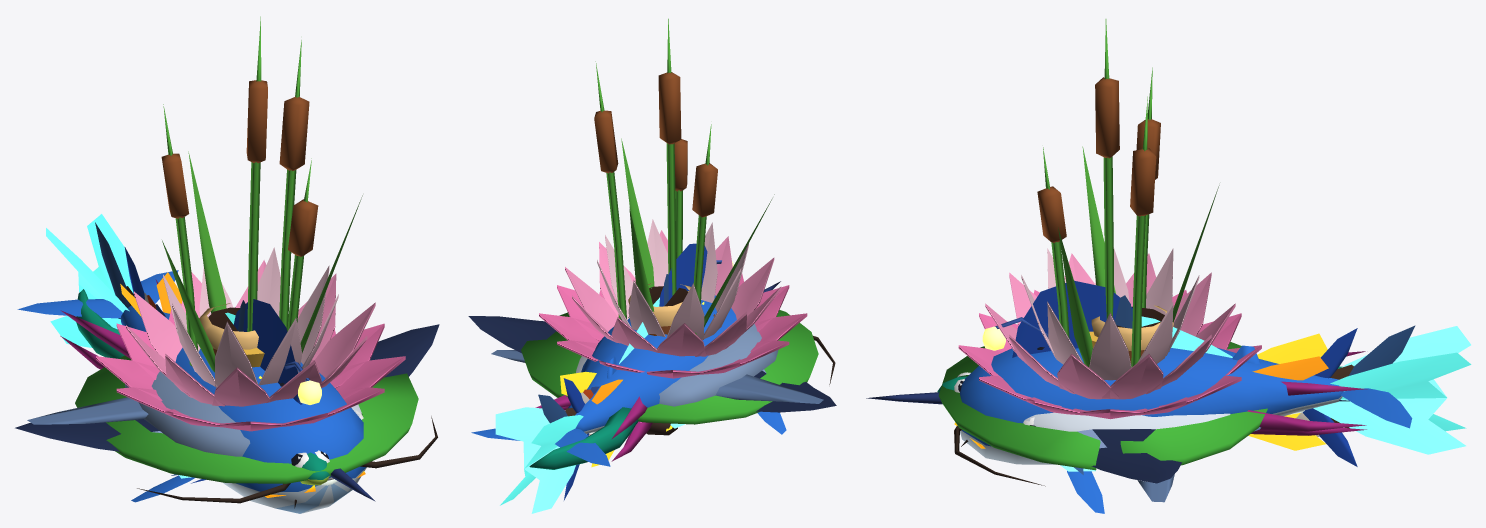
File: fish.glb
3 views of the same model, side by side, from view 1: azimuth 30°, elevation 25°; view 2: azimuth 150°, elevation 25°; view 3: azimuth 270°, elevation 25° (orthographic). The views are drawn at different scales.
Visible parts, largest first — view 1: lily_flower, reeds, lily_pad, fish_whale_body, fish_sunfish_body, fish_manta_body, fish_guardian_tail, fish_swordfish_body, fish_whale_tail, boot_body, fish_catfish_body, fish_eel_tail (+5 smaller); view 2: lily_flower, reeds, lily_pad, fish_whale_body, fish_sunfish_body, fish_guardian_tail, fish_manta_body, fish_eel_tail, boot_body, fish_whale_tail, fish_swordfish_body, fish_kraken_tail (+3 smaller); view 3: lily_flower, fish_whale_body, reeds, lily_pad, fish_guardian_tail, fish_swordfish_body, fish_golden_tail, fish_sunfish_body, fish_manta_body, fish_kraken_tail, fish_swordfish_tail, fish_whale_tail (+3 smaller).
Boxes of the visible parts, x1,y1,x2,y2 form: lily_flower: (96,247,405,431); reeds: (161,16,362,372); lily_pad: (75,355,418,483); fish_whale_body: (121,305,366,513); fish_sunfish_body: (27,371,361,456); fish_manta_body: (15,324,439,451); fish_guardian_tail: (46,214,133,347); fish_swordfish_body: (191,299,375,501); fish_whale_tail: (17,270,178,318); boot_body: (199,303,258,355); fish_catfish_body: (137,416,437,508); fish_eel_tail: (76,289,124,358); lily_flower: (539,219,807,378); reeds: (594,18,774,334); lily_pad: (521,310,818,424); fish_whale_body: (568,295,786,434); fish_sunfish_body: (491,324,823,406); fish_guardian_tail: (495,407,586,513); fish_manta_body: (468,316,836,412); fish_eel_tail: (529,407,638,469); boot_body: (628,283,690,435); fish_whale_tail: (471,428,610,466); fish_swordfish_body: (659,243,780,306); fish_kraken_tail: (535,395,652,461); lily_flower: (958,247,1261,419); fish_whale_body: (960,345,1343,513); reeds: (1037,19,1219,367); lily_pad: (938,342,1267,470); fish_guardian_tail: (1313,326,1471,454); fish_swordfish_body: (866,280,1132,404); fish_golden_tail: (1248,333,1328,450); fish_sunfish_body: (1024,412,1230,502); fish_manta_body: (1077,429,1182,483); fish_kraken_tail: (1247,351,1367,435); fish_swordfish_tail: (1302,328,1357,466); fish_whale_tail: (1340,388,1412,428).
Size of the model in its own units: 1 by 1.05 by 1.26.
